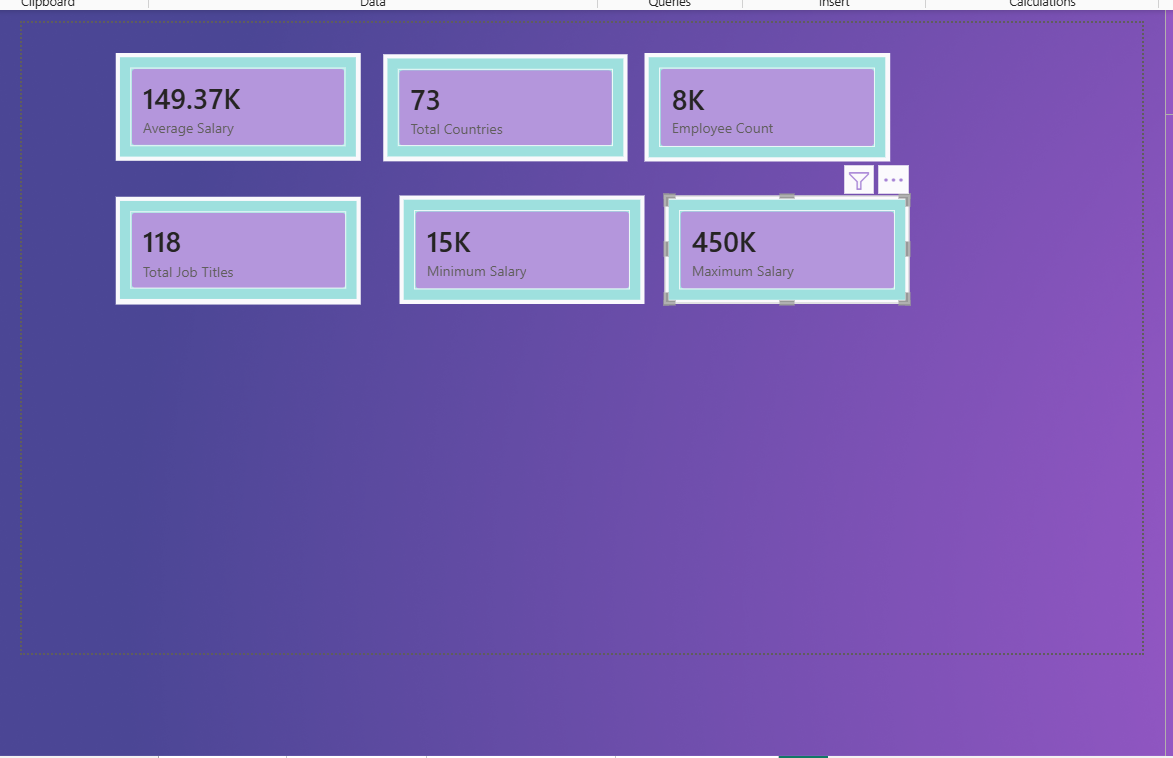

What the dashboard file says about the page in this screenshot:
{"tool":"powerbi","page":{"name":"KPI Metrics","canvas":[1280,720],"ordinal":0},"visuals":[{"type":"cardVisual","fields":{"Data":["salaries.Employee Count"]},"box":[711.3,33.9,280.6,124.2],"z":0},{"type":"cardVisual","fields":{"Data":["salaries.Total Countries"]},"box":[412.9,35.5,279,122.6],"z":1000},{"type":"cardVisual","fields":{"Data":["salaries.Average Salary"]},"box":[107,34.3,279.9,123.5],"z":2000},{"type":"cardVisual","fields":{"Data":["salaries.Total Job Titles"]},"box":[619.4,237.1,280.6,122.6],"z":3000},{"type":"cardVisual","fields":{"Data":["salaries.Minimum Salary"]},"box":[972.6,235.5,280.6,124.2],"z":4000},{"type":"cardVisual","fields":{"Data":["salaries.Maximum Salary"]},"box":[1000,33.9,280.6,124.2],"z":5000}]}

Visuals, with their boxes on the page's 1280x720 design canvas (x1, y1, x2, y2). These are canvas units, not pixel positions in the 1173x758 screenshot, which may show the page scaled, cropped or inside an application window:
cardVisual - salaries.Employee Count: locate(711, 34, 992, 158)
cardVisual - salaries.Total Countries: locate(413, 36, 692, 158)
cardVisual - salaries.Average Salary: locate(107, 34, 387, 158)
cardVisual - salaries.Total Job Titles: locate(619, 237, 900, 360)
cardVisual - salaries.Minimum Salary: locate(973, 236, 1253, 360)
cardVisual - salaries.Maximum Salary: locate(1000, 34, 1281, 158)
